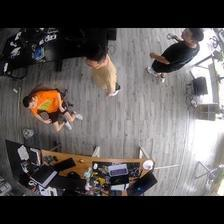normal: (146, 29, 204, 84), (23, 88, 83, 134), (85, 43, 121, 97)
